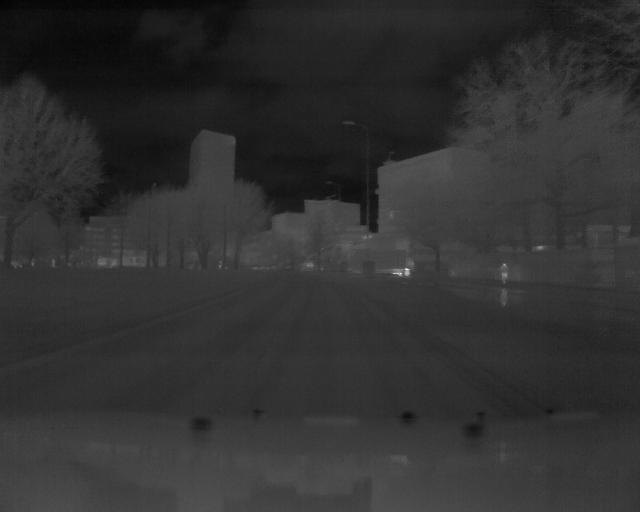person: (499, 260, 511, 287)
